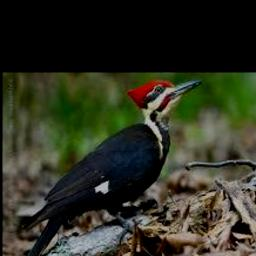Woodpecker: (14, 79, 202, 256)
